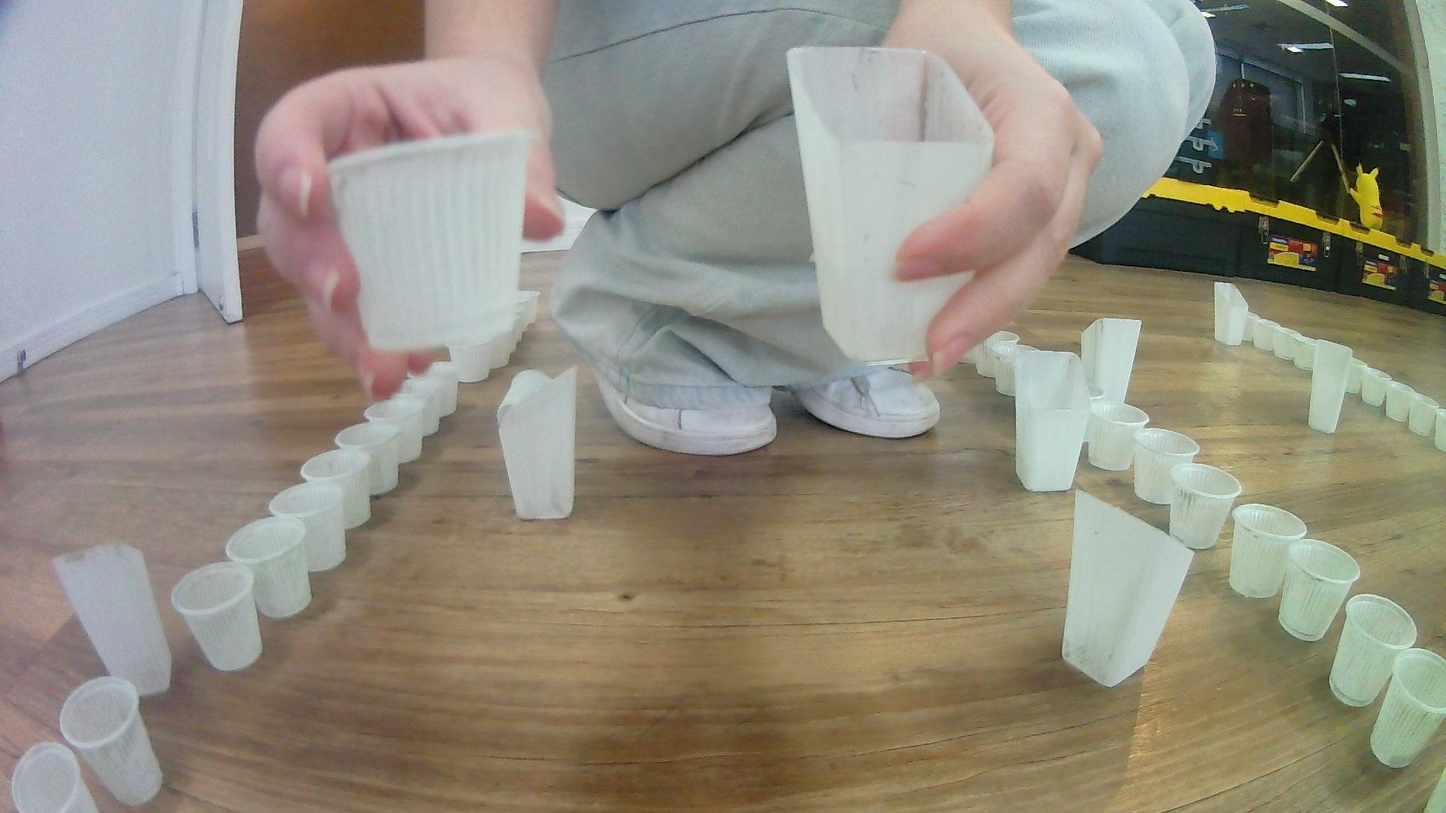erva_daninha: (786, 46, 999, 367), (1060, 489, 1194, 689), (50, 540, 173, 700), (496, 364, 577, 522), (1011, 349, 1090, 493), (1081, 316, 1142, 406), (1307, 339, 1355, 436), (1213, 280, 1249, 347)
planta: (322, 128, 532, 356), (57, 675, 163, 809), (166, 560, 262, 673), (1328, 592, 1420, 708), (1368, 646, 1446, 769), (224, 514, 314, 620), (1274, 536, 1362, 643), (1228, 502, 1309, 599), (8, 739, 105, 813), (268, 483, 347, 573), (1167, 461, 1243, 550), (298, 449, 373, 531), (1130, 425, 1203, 506), (334, 420, 400, 497), (1088, 400, 1151, 473), (365, 399, 423, 464), (392, 377, 441, 439), (994, 340, 1036, 397), (418, 360, 458, 418), (975, 330, 1023, 376), (445, 341, 490, 383), (484, 324, 518, 368), (1360, 364, 1393, 408), (1383, 379, 1416, 422), (1408, 392, 1438, 438), (504, 309, 531, 348), (1273, 328, 1303, 361), (1241, 311, 1265, 349), (1254, 321, 1283, 352), (518, 288, 541, 325), (1345, 358, 1368, 395), (1293, 338, 1317, 372), (1433, 406, 1446, 454), (958, 347, 985, 364)
